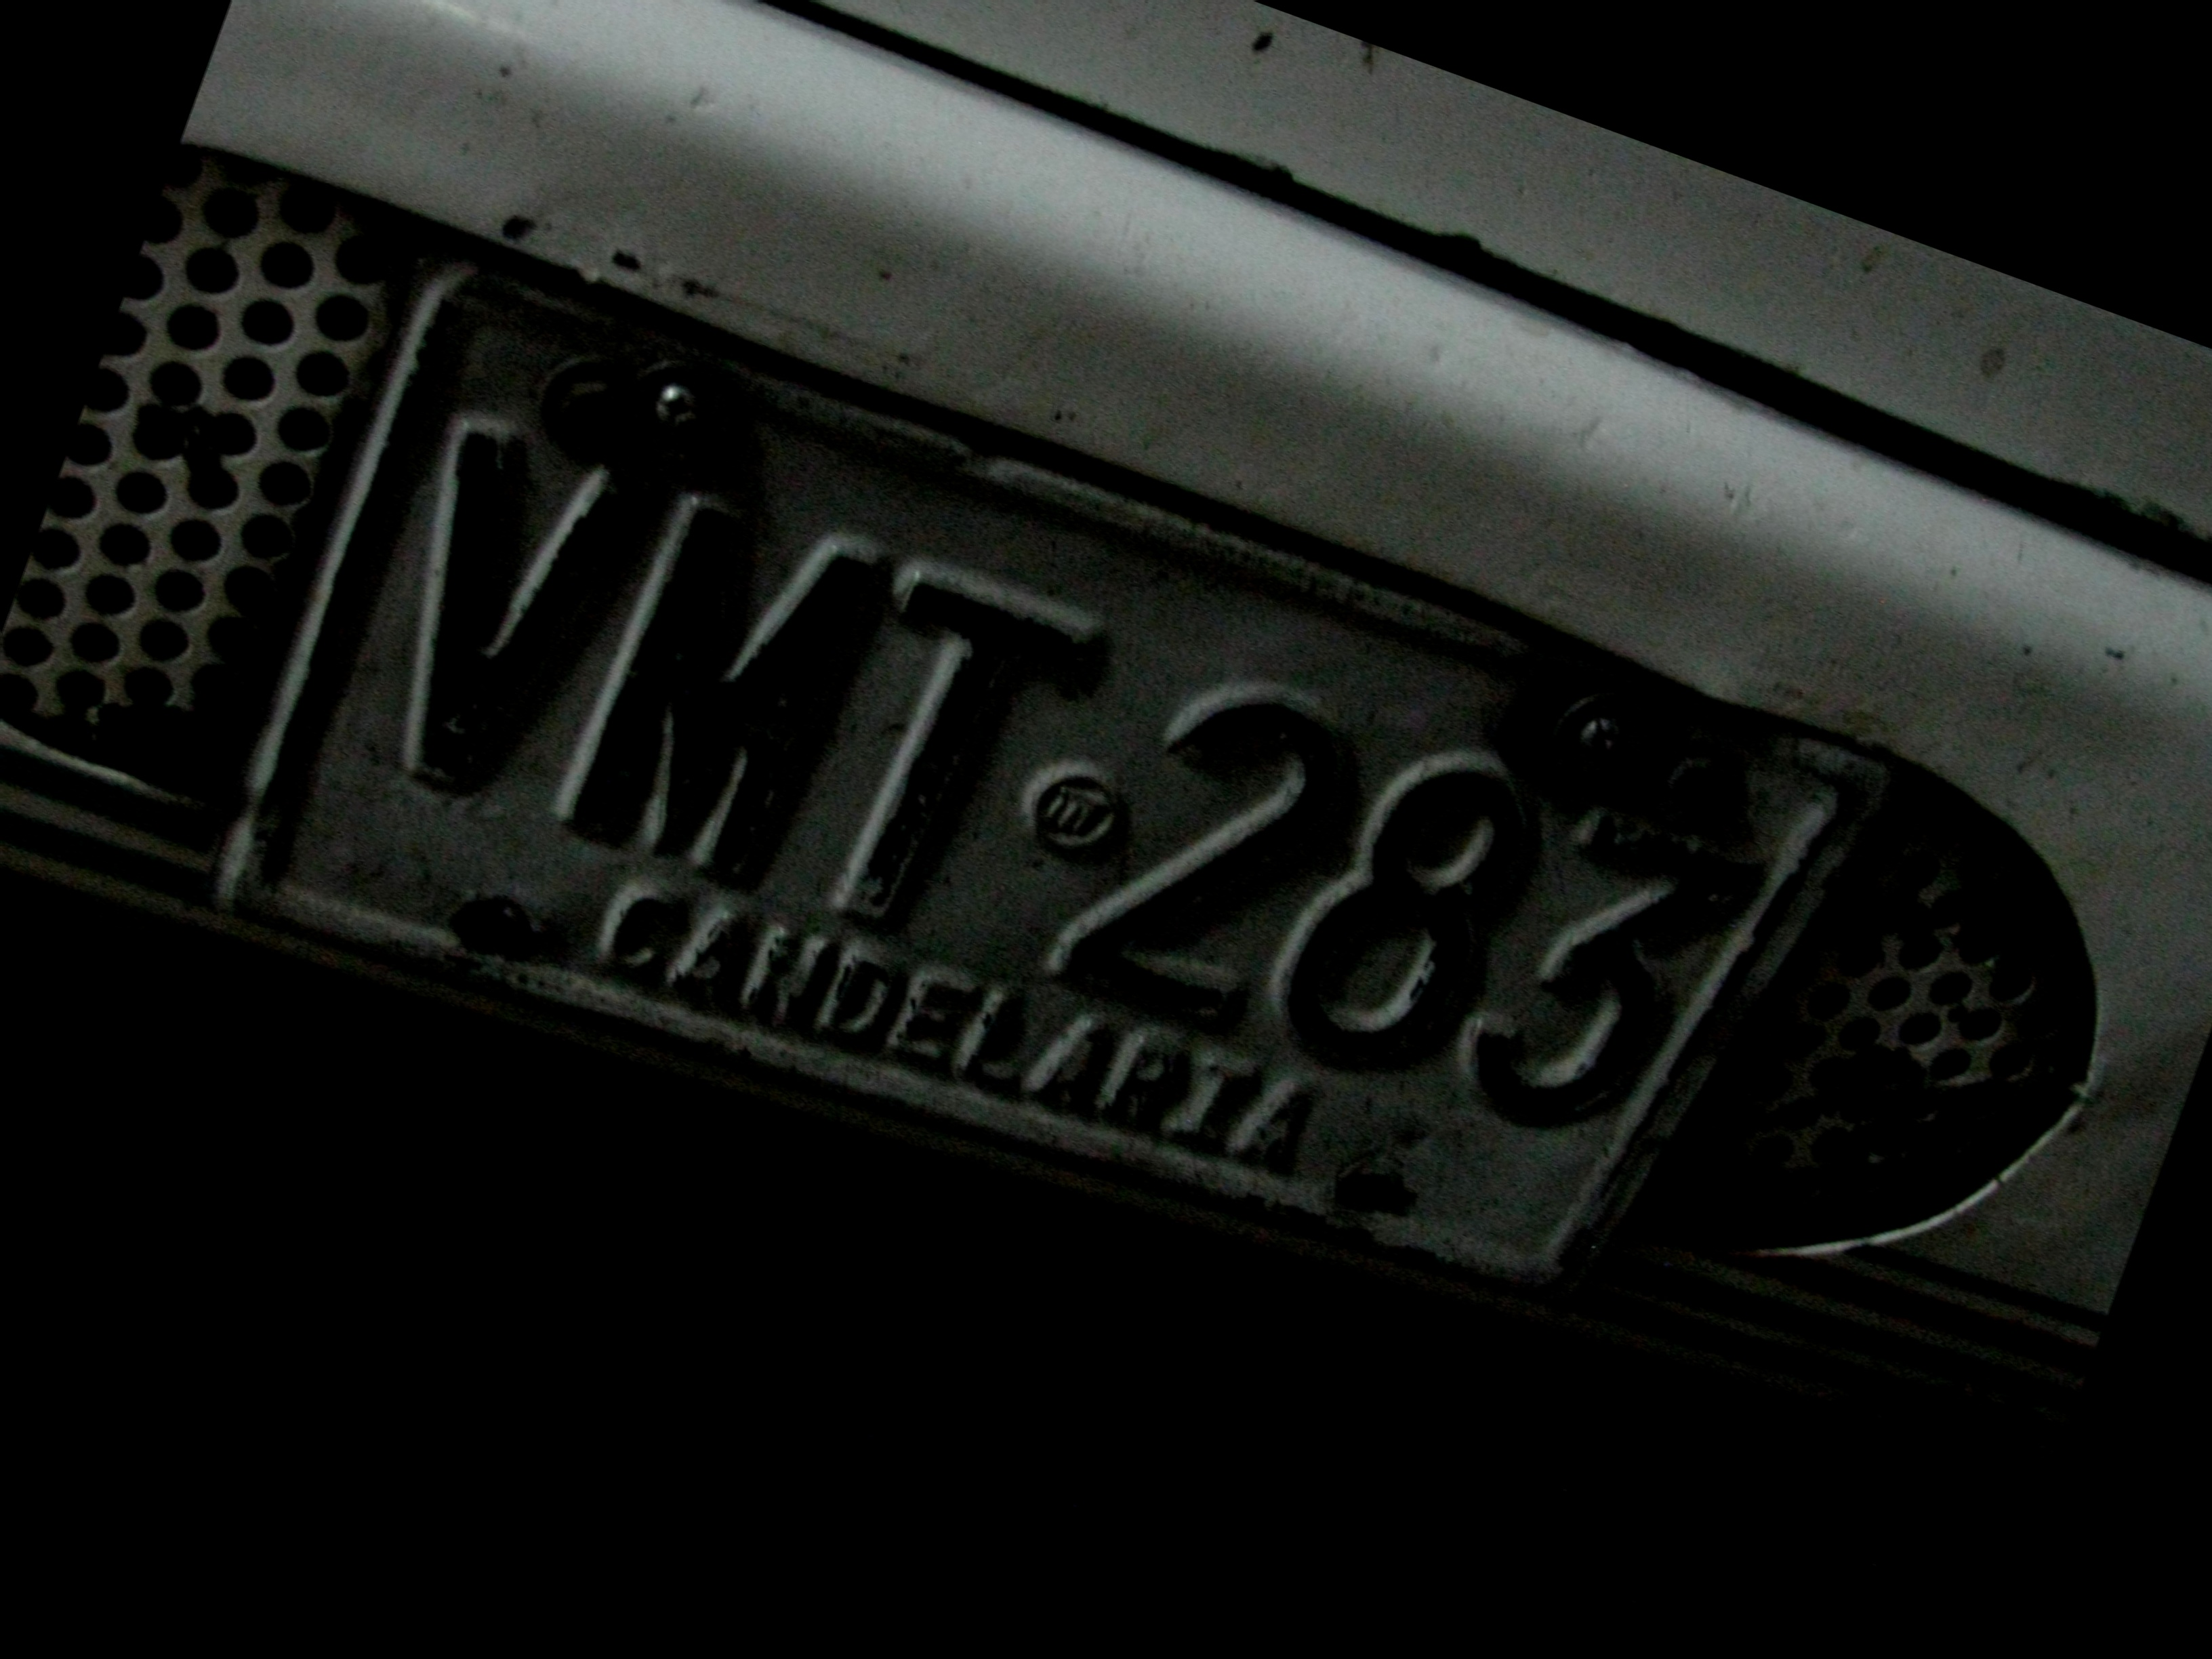placas: (168, 212, 1902, 1431)
